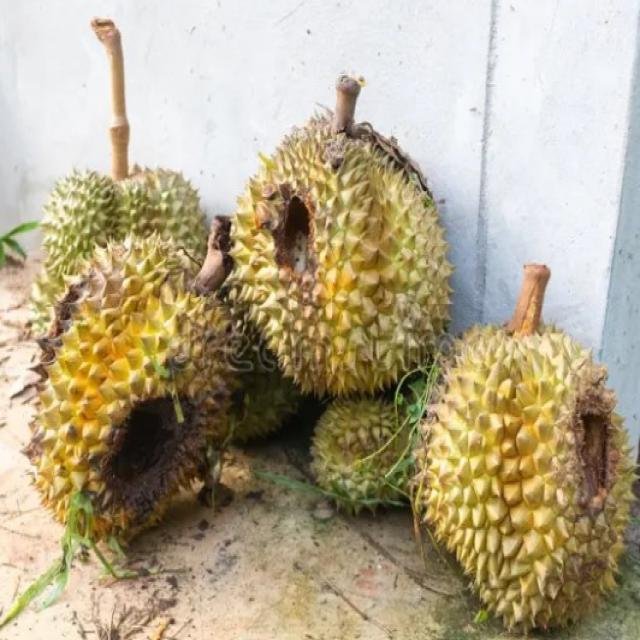defective: (419, 323, 639, 640), (27, 235, 241, 549), (228, 114, 446, 391)
